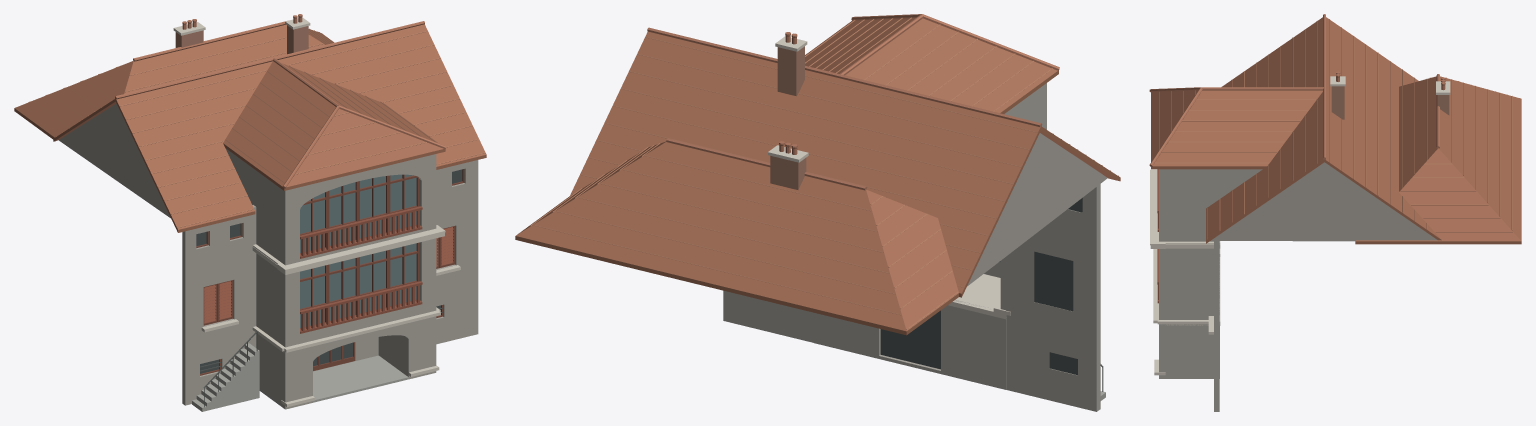
Rendered from huangpu-sinan-road-73-garden-front-lod.glb.
The picture shows the model from 3 angles, left to right: view 1: azimuth 30°, elevation 25°; view 2: azimuth 150°, elevation 25°; view 3: azimuth 270°, elevation 25°; orthographic projection. The views are drawn at different scales.
Parts seen in each view (by area): view 1: 思南路73号周公馆庭院立面; view 2: 思南路73号周公馆庭院立面; view 3: 思南路73号周公馆庭院立面.
Part boxes in pixels (box(x1,y1,x2,y2)): 思南路73号周公馆庭院立面: box(14, 14, 486, 411); 思南路73号周公馆庭院立面: box(515, 14, 1120, 411); 思南路73号周公馆庭院立面: box(1149, 14, 1521, 411).
Bounding box in the file's own units: 14.51 × 13.4 × 15.88.
